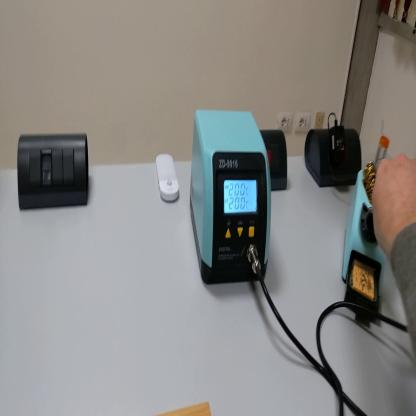hand: (373, 154, 416, 256)
socket: (304, 128, 364, 192), (259, 131, 290, 197)
welder base: (344, 133, 390, 331)
welder probe tip: (364, 201, 377, 250)
welder station: (192, 107, 273, 289)
working area: (160, 401, 212, 416)
